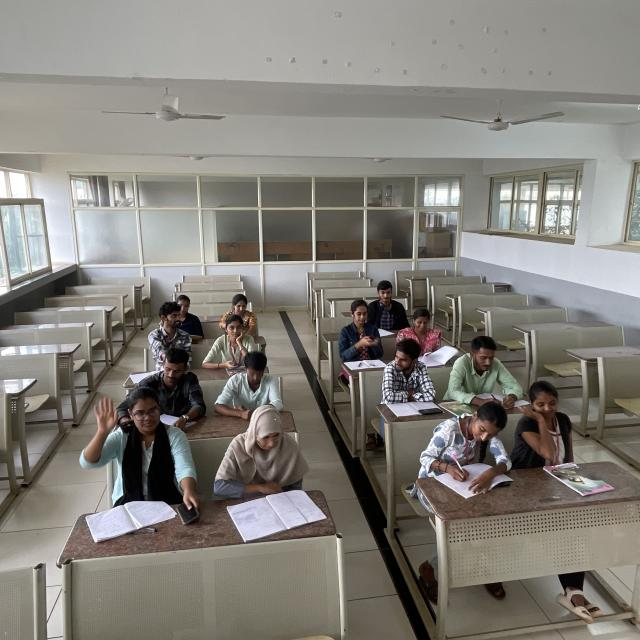Hand Rising: (83, 399, 203, 498)
Reading: (210, 400, 324, 518), (396, 309, 459, 365)
Using Phone: (201, 315, 265, 375), (337, 297, 386, 366)
Writing: (417, 398, 514, 482)
